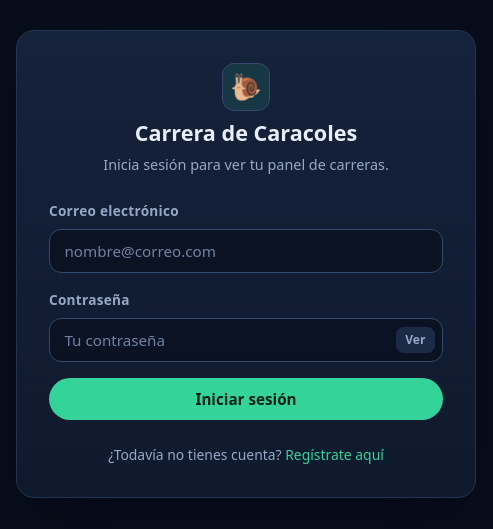
Test: LoginPage › muestra un error si la contraseña está vacía
Type "ana@correo.com" into the field labelled "Correo electrónico" at (246, 251), box [49,229,443,273]
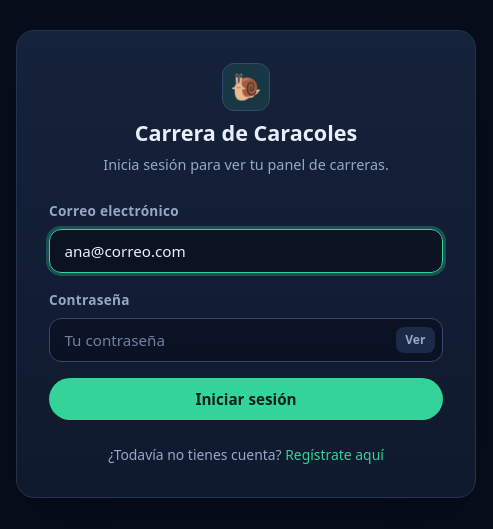
Click the button "Iniciar sesión" at (246, 399), box [49,378,443,420]
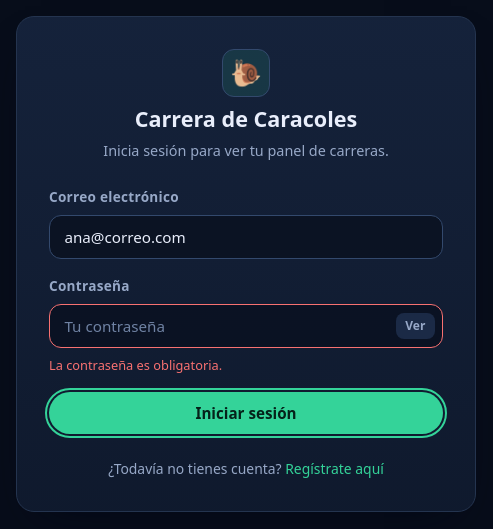
Expected: the text "La contraseña es obligatoria." is shown, [49,356,222,374]
